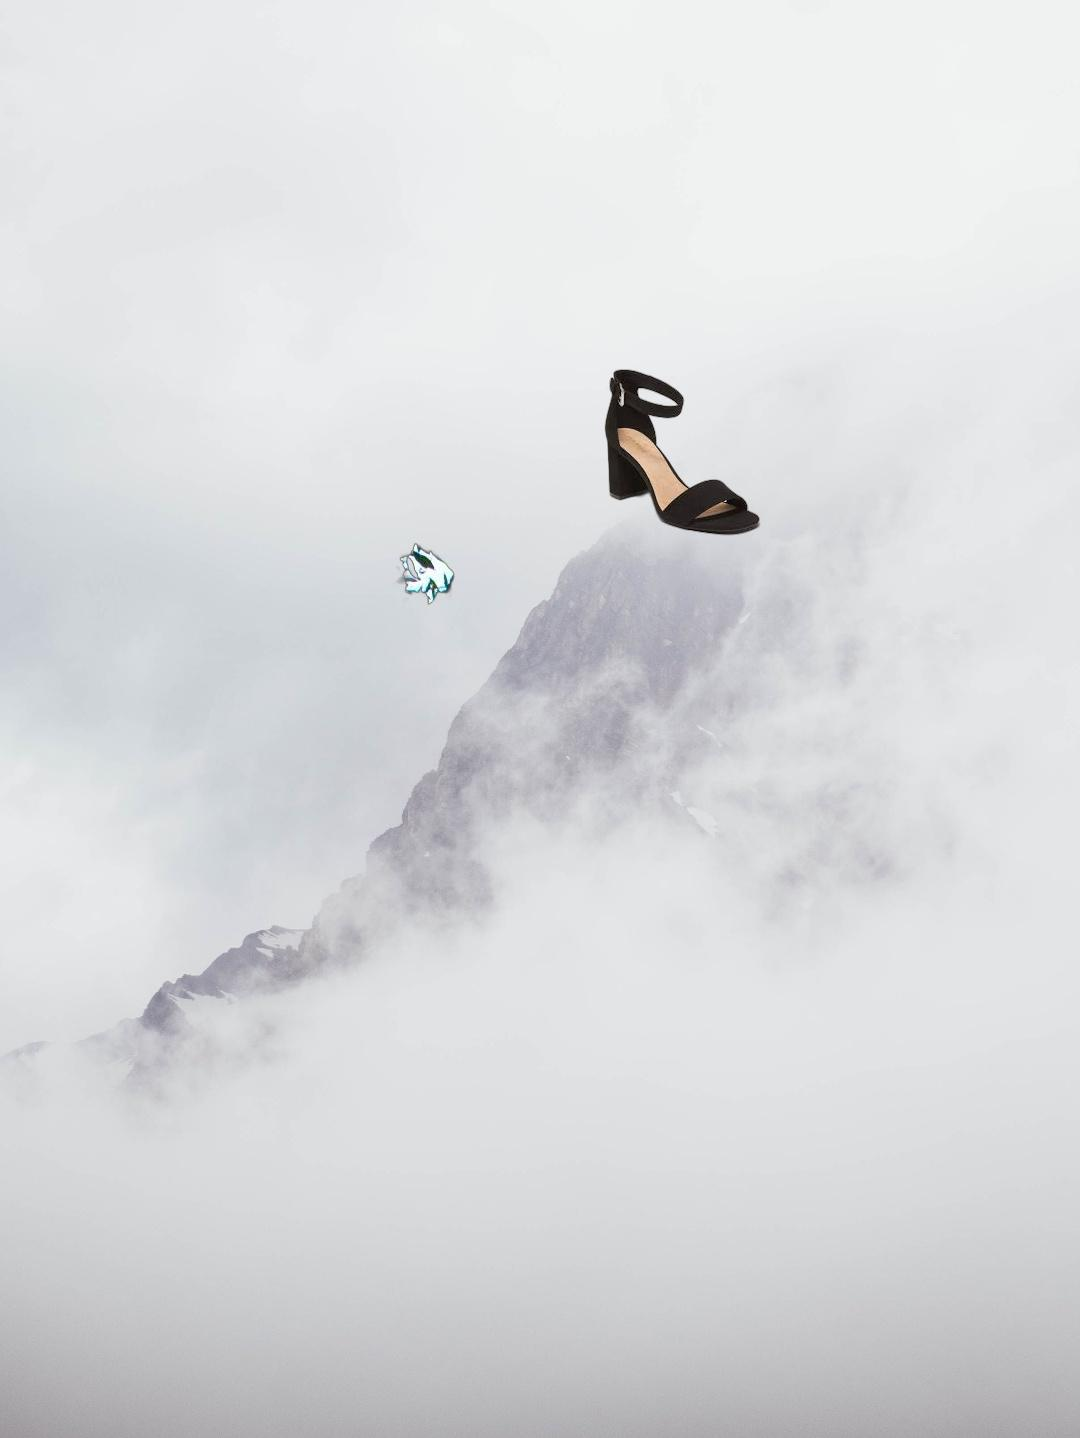plastic-bag: (388, 540, 457, 610)
shoes: (602, 367, 762, 538)
